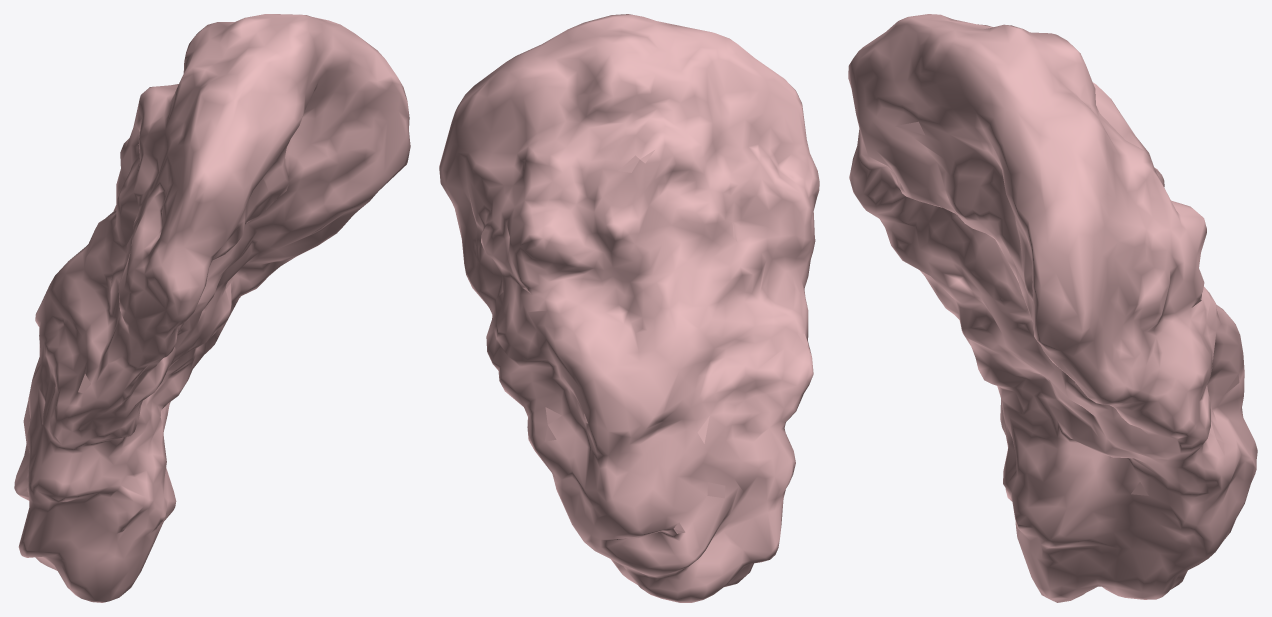
Rendered from 3d-vh-f-palatine-tonsil-r-40.glb.
3 views of the same model, side by side, from view 1: azimuth 30°, elevation 25°; view 2: azimuth 150°, elevation 25°; view 3: azimuth 270°, elevation 25° (orthographic). The views are drawn at different scales.
Visible parts, largest first — view 1: VH_F_palatine_tonsil_R; view 2: VH_F_palatine_tonsil_R; view 3: VH_F_palatine_tonsil_R.
Boxes of the visible parts, box(x1,y1,x2,y2) form: VH_F_palatine_tonsil_R: box(14, 14, 410, 602); VH_F_palatine_tonsil_R: box(439, 14, 819, 602); VH_F_palatine_tonsil_R: box(848, 14, 1257, 602).
Bounding box in the file's own units: 0.0168 × 0.0239 × 0.0139.
